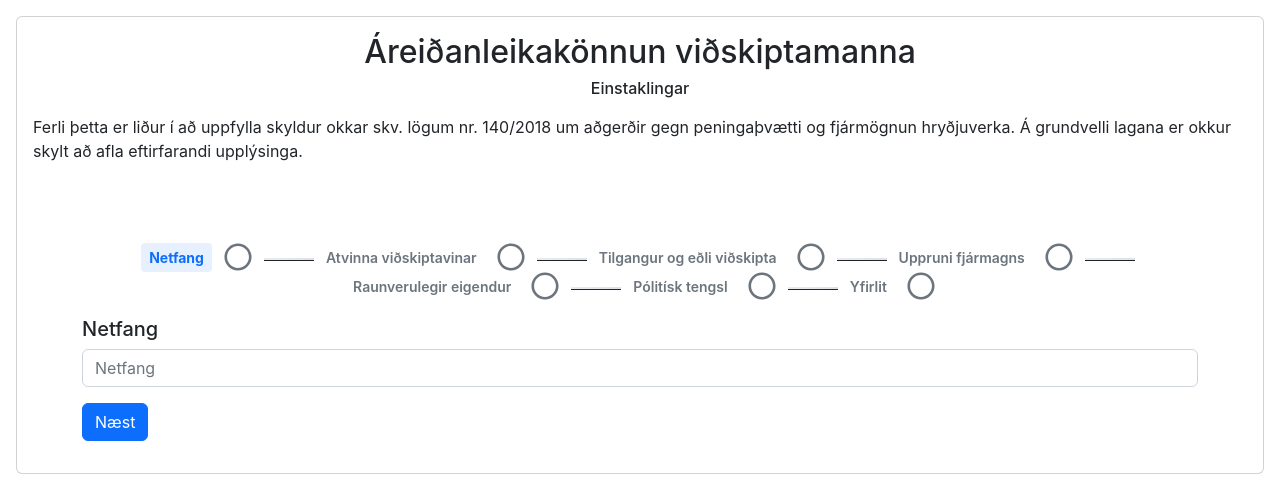
Test: Click on steps and check the form › should produce the correct form when step five is clicked
Step 1. Click the element with id "step-4" → coordinates (545, 286), box 531,272 -> 559,300
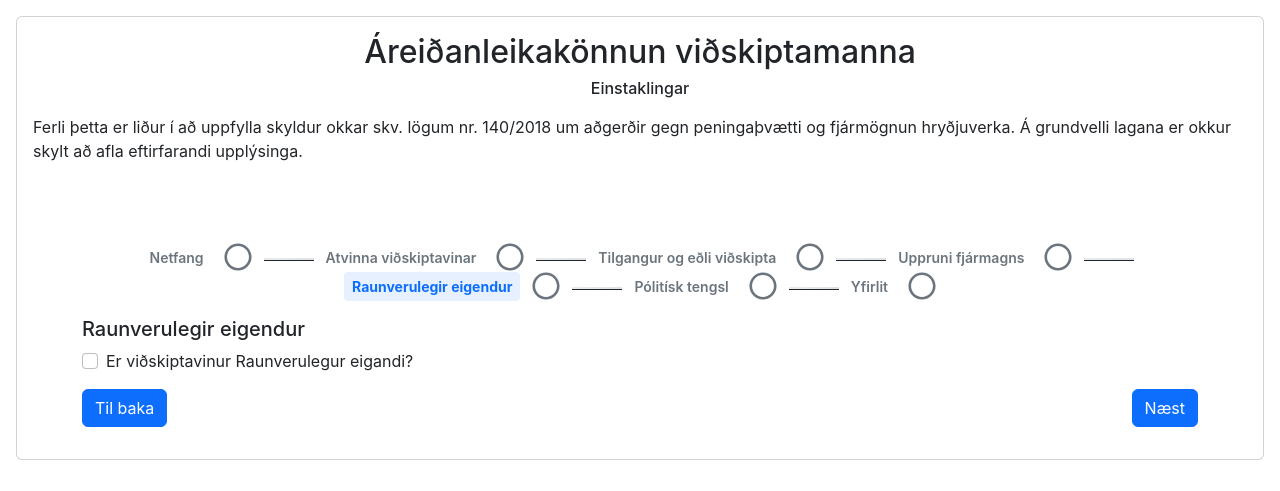
Check: the text "Er viðskiptavinur Raunverulegur eigandi?" is shown, box 106,349 -> 413,373
